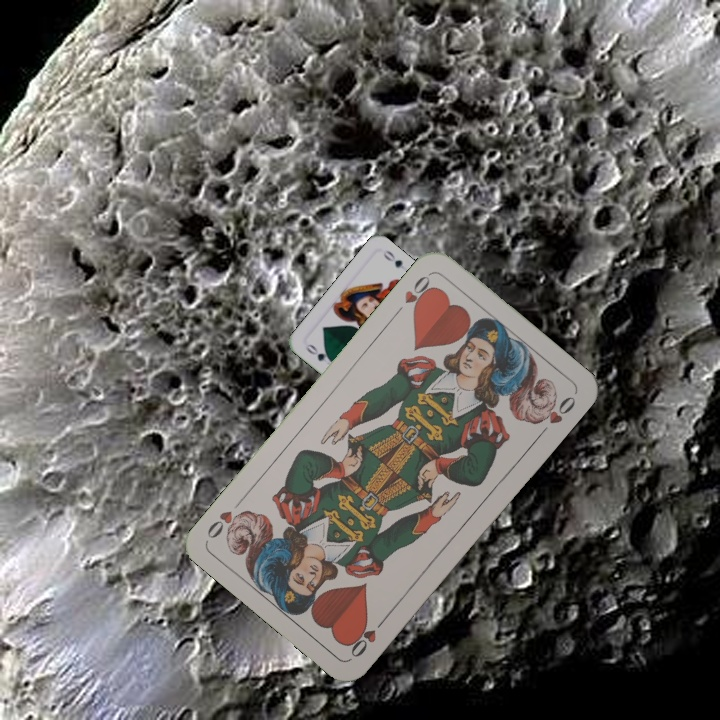GO: (301, 340, 338, 367)
HO: (390, 270, 437, 319), (346, 612, 390, 660)
